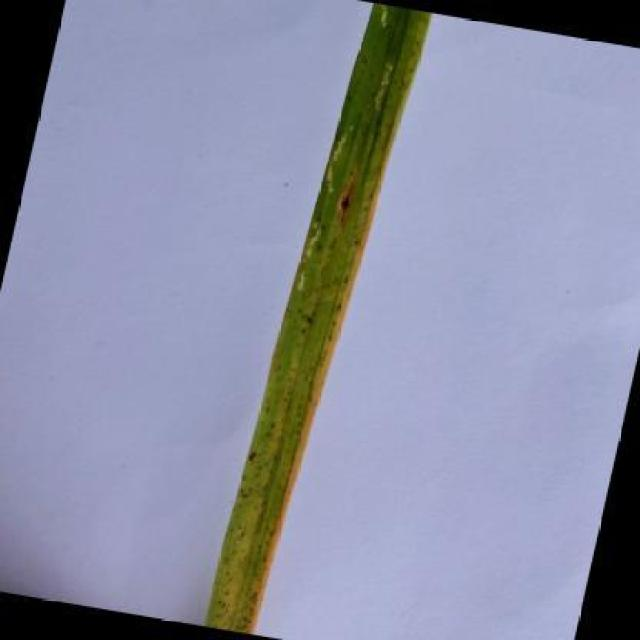Rice False Smut: (207, 6, 430, 632)
